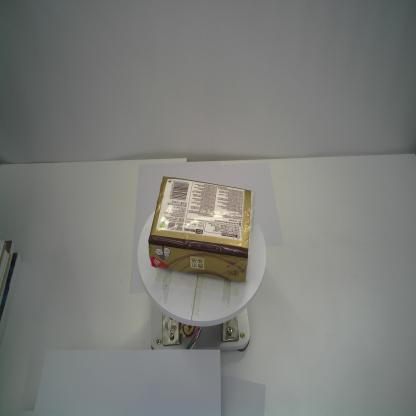Tissue: (148, 176, 256, 283)
